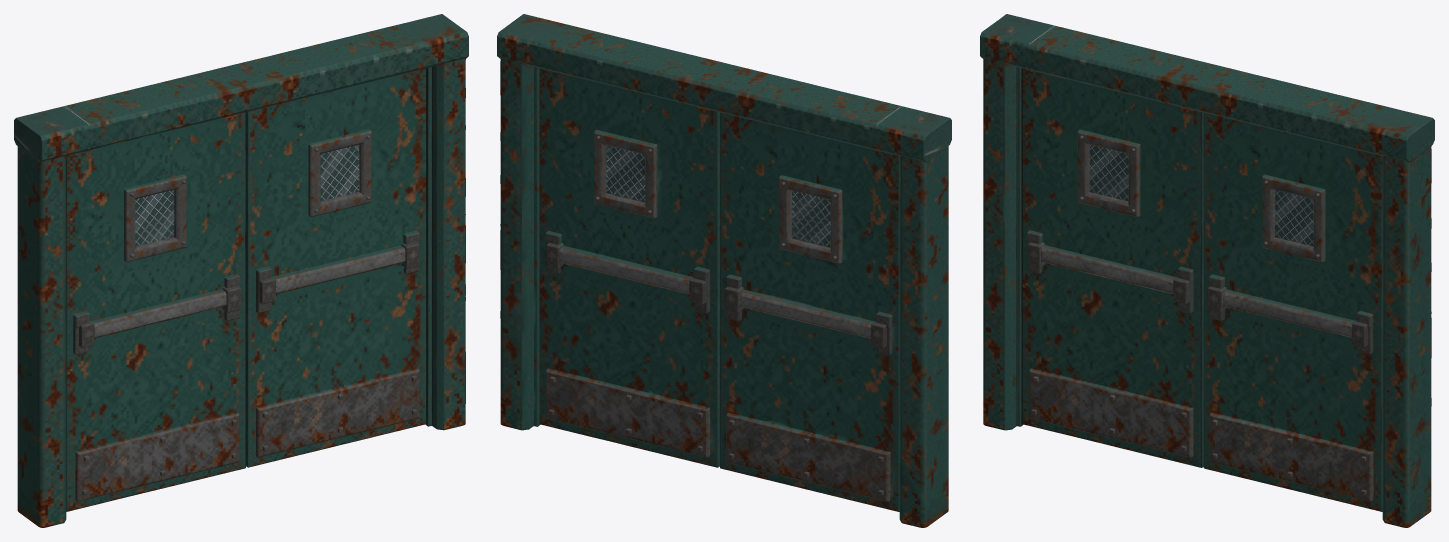
Rendered from Meshy_AI_model.glb.
The picture shows the model from 3 angles, left to right: view 1: azimuth 30°, elevation 25°; view 2: azimuth 150°, elevation 25°; view 3: azimuth 330°, elevation 25°; orthographic projection.
Size of the model in its own units: 1.9 by 1.67 by 0.2185.
Materials: 1 (1 with a texture image).
